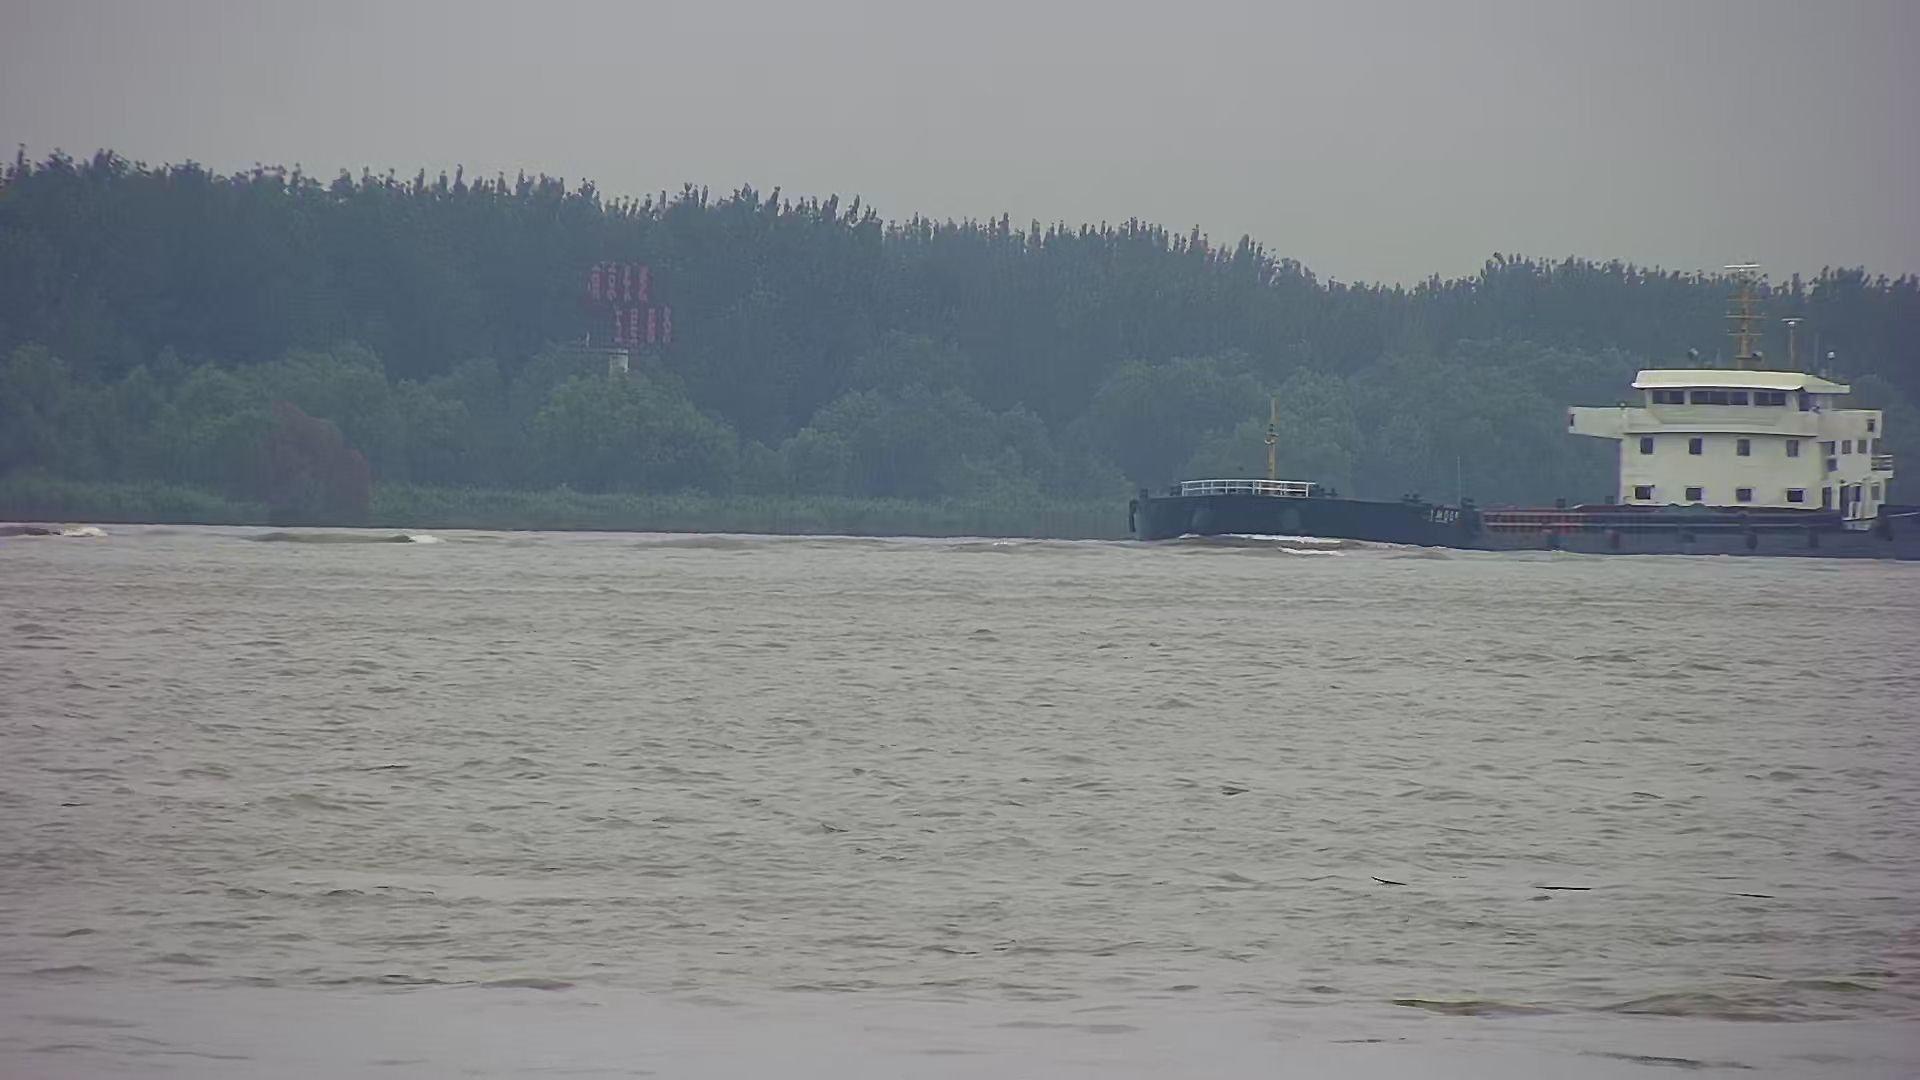ship: (1127, 256, 1920, 568)
